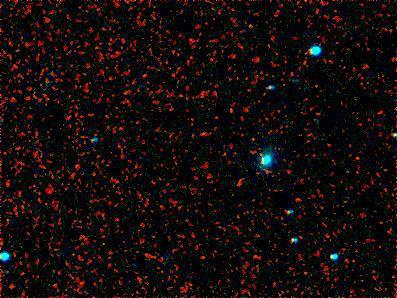star: (319, 236, 349, 266)
